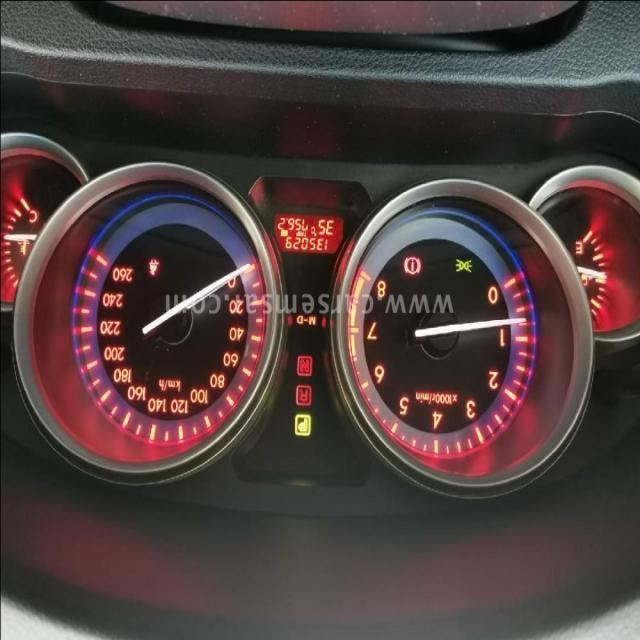High Engine Coolant Temperature: (18, 240, 30, 256)
Seat Belt: (148, 258, 159, 276)
